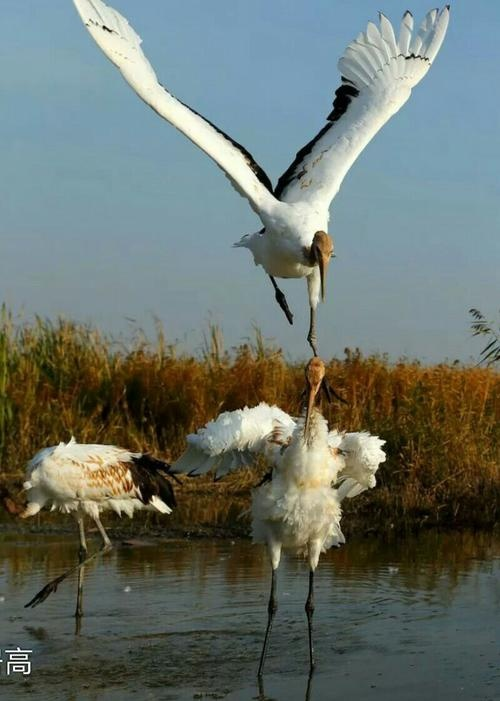bird: (72, 3, 444, 354), (187, 354, 385, 687), (8, 435, 186, 640)
